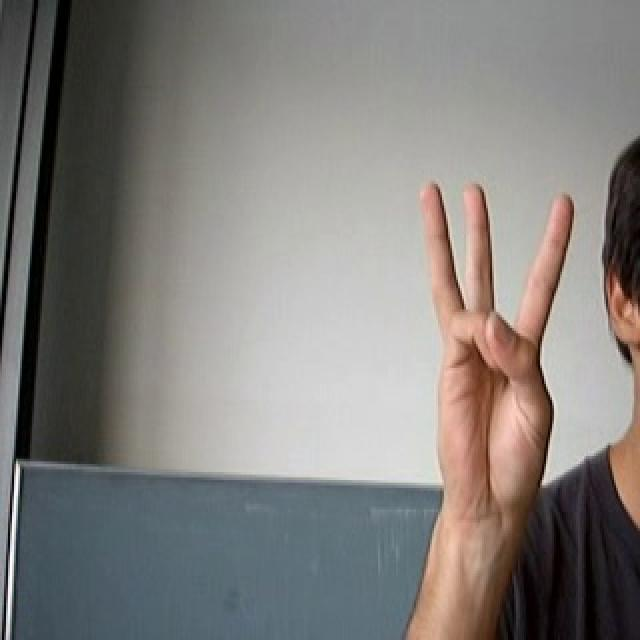W: (400, 152, 590, 532)
